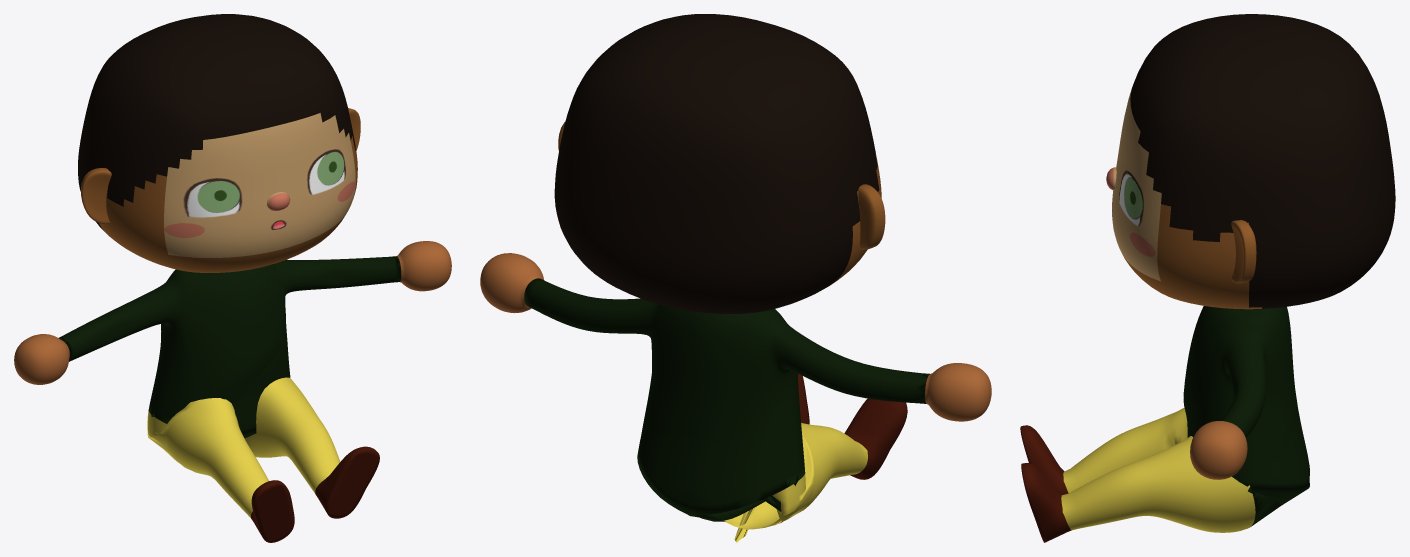
File: Hans sitting waiting.obj
3 renders of one model, left to right at view 1: azimuth 30°, elevation 25°; view 2: azimuth 150°, elevation 25°; view 3: azimuth 270°, elevation 25°, orthographic. The views are drawn at different scales.
Visible parts, largest first — view 1: Cube.001, Cube.002, Cube.003, Cube.008, Cube.005, Cube.004; view 2: Cube.001, Cube.002, Cube.003, Cube.008, Cube.005, Cube.004; view 3: Cube.001, Cube.002, Cube.003, Cube.008, Cube.004.
Part boxes in pixels (x1=…): Cube.001: x1=78, y1=14, x2=360, y2=272; Cube.002: x1=59, y1=256, x2=401, y2=438; Cube.003: x1=147, y1=377, x2=340, y2=518; Cube.008: x1=251, y1=446, x2=379, y2=542; Cube.005: x1=14, y1=334, x2=69, y2=384; Cube.004: x1=396, y1=241, x2=451, y2=291; Cube.001: x1=554, y1=14, x2=885, y2=313; Cube.002: x1=524, y1=278, x2=929, y2=521; Cube.003: x1=724, y1=423, x2=867, y2=542; Cube.008: x1=798, y1=373, x2=907, y2=479; Cube.005: x1=925, y1=363, x2=991, y2=421; Cube.004: x1=480, y1=253, x2=543, y2=313; Cube.001: x1=1106, y1=14, x2=1395, y2=309; Cube.002: x1=1183, y1=306, x2=1309, y2=526; Cube.003: x1=1061, y1=407, x2=1255, y2=532; Cube.008: x1=1020, y1=425, x2=1071, y2=542; Cube.004: x1=1190, y1=421, x2=1247, y2=479.
Size of the model in its own units: 2.58 by 2.5 by 1.71.
